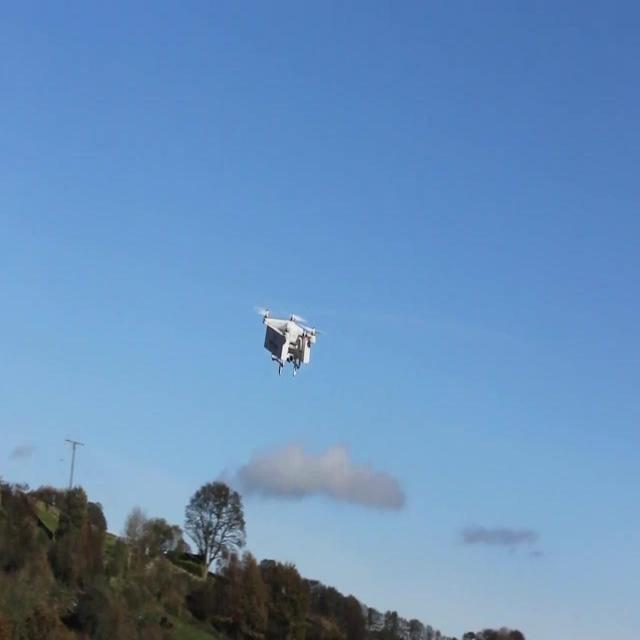UAV: (254, 308, 322, 378)
